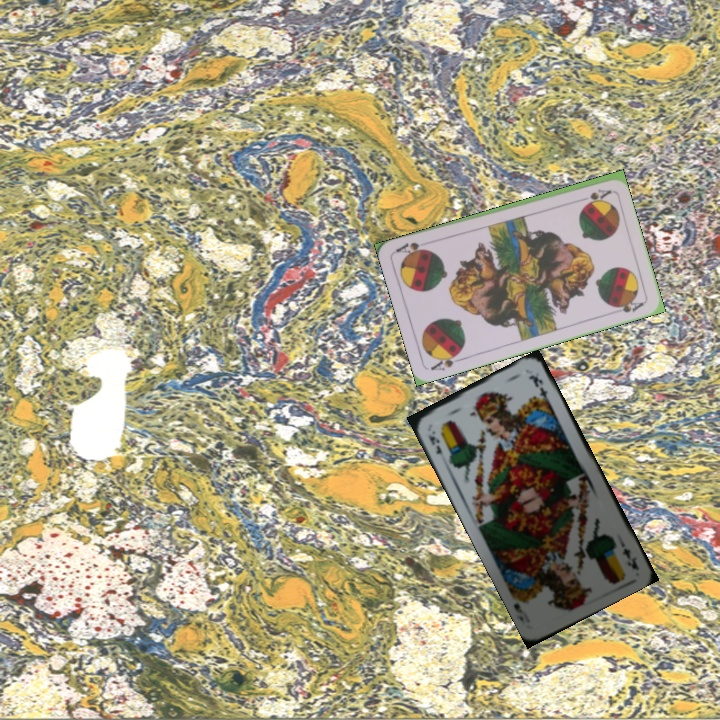EK: (615, 535, 642, 573), (425, 427, 444, 457)
SA: (426, 348, 466, 373), (573, 185, 613, 205)
